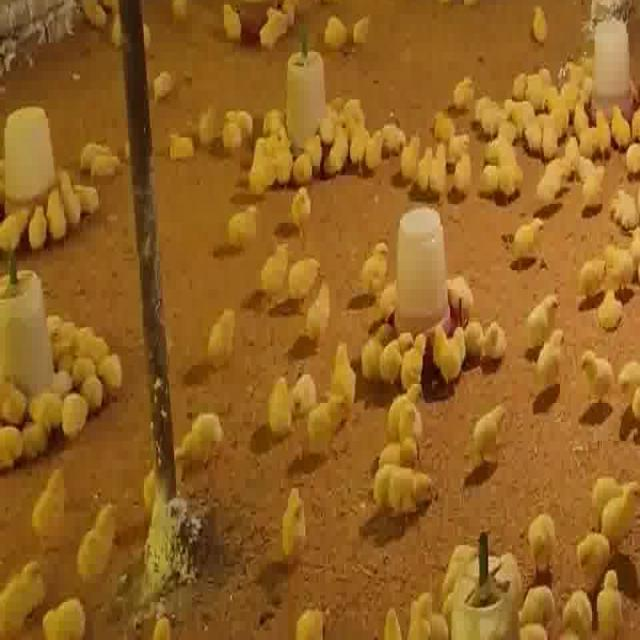poussin: (4, 546, 41, 638), (376, 376, 424, 446), (368, 464, 440, 510), (139, 444, 185, 514), (586, 475, 640, 533), (319, 322, 355, 402), (181, 383, 223, 451), (30, 469, 70, 538), (465, 395, 507, 460), (275, 393, 318, 455), (81, 509, 122, 574), (44, 576, 86, 638), (520, 285, 561, 346), (269, 356, 319, 404), (530, 335, 570, 395), (536, 594, 585, 640), (283, 247, 321, 306), (576, 344, 614, 402), (222, 198, 262, 251), (527, 508, 560, 572), (430, 304, 464, 366), (375, 584, 411, 640), (367, 303, 398, 365), (558, 566, 594, 618), (281, 487, 308, 556), (358, 236, 389, 296), (290, 587, 325, 639), (0, 202, 33, 257), (598, 560, 621, 638), (302, 290, 334, 345), (442, 543, 478, 591), (257, 241, 284, 305), (570, 530, 613, 570), (413, 587, 445, 640), (464, 298, 506, 338), (564, 60, 588, 130), (155, 126, 199, 164), (605, 228, 640, 272), (189, 311, 213, 374), (385, 310, 412, 365), (508, 216, 548, 253), (593, 257, 625, 303), (324, 102, 346, 167), (253, 2, 286, 44), (401, 317, 426, 371), (380, 129, 410, 174), (286, 188, 316, 233), (486, 105, 516, 150), (427, 130, 450, 185), (59, 393, 87, 437), (72, 183, 102, 224), (576, 158, 603, 202), (518, 88, 544, 133), (44, 191, 68, 239), (612, 171, 640, 212), (218, 0, 246, 40), (451, 73, 477, 115), (20, 420, 50, 456), (522, 564, 551, 601), (58, 186, 84, 227), (409, 140, 431, 188), (0, 423, 24, 467), (345, 123, 367, 170), (102, 353, 126, 396), (496, 162, 523, 200), (28, 391, 61, 422), (320, 13, 350, 47), (195, 102, 218, 146), (250, 150, 272, 195), (46, 316, 76, 349), (611, 361, 638, 397), (380, 104, 407, 140), (442, 128, 473, 159), (84, 144, 114, 176), (30, 199, 50, 247), (518, 52, 558, 76), (68, 326, 100, 356), (152, 60, 175, 100), (225, 105, 252, 138), (0, 390, 26, 424), (540, 164, 561, 206), (612, 104, 632, 148), (584, 238, 608, 274), (292, 150, 316, 185), (364, 131, 384, 173), (431, 109, 457, 141), (275, 137, 293, 183), (542, 104, 562, 145), (478, 82, 502, 116), (454, 153, 472, 195), (349, 15, 373, 46), (343, 74, 365, 106), (506, 54, 526, 88), (84, 373, 101, 412), (576, 122, 598, 152), (595, 111, 610, 154), (542, 72, 568, 96), (221, 122, 241, 153), (74, 355, 95, 382), (565, 136, 580, 173), (532, 7, 548, 35)
